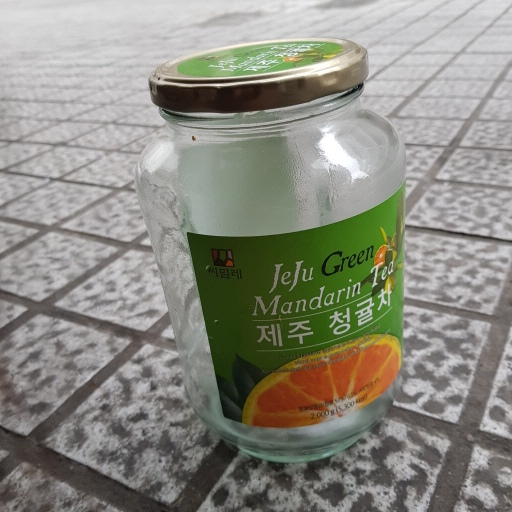Glass_5: (132, 36, 413, 455)
